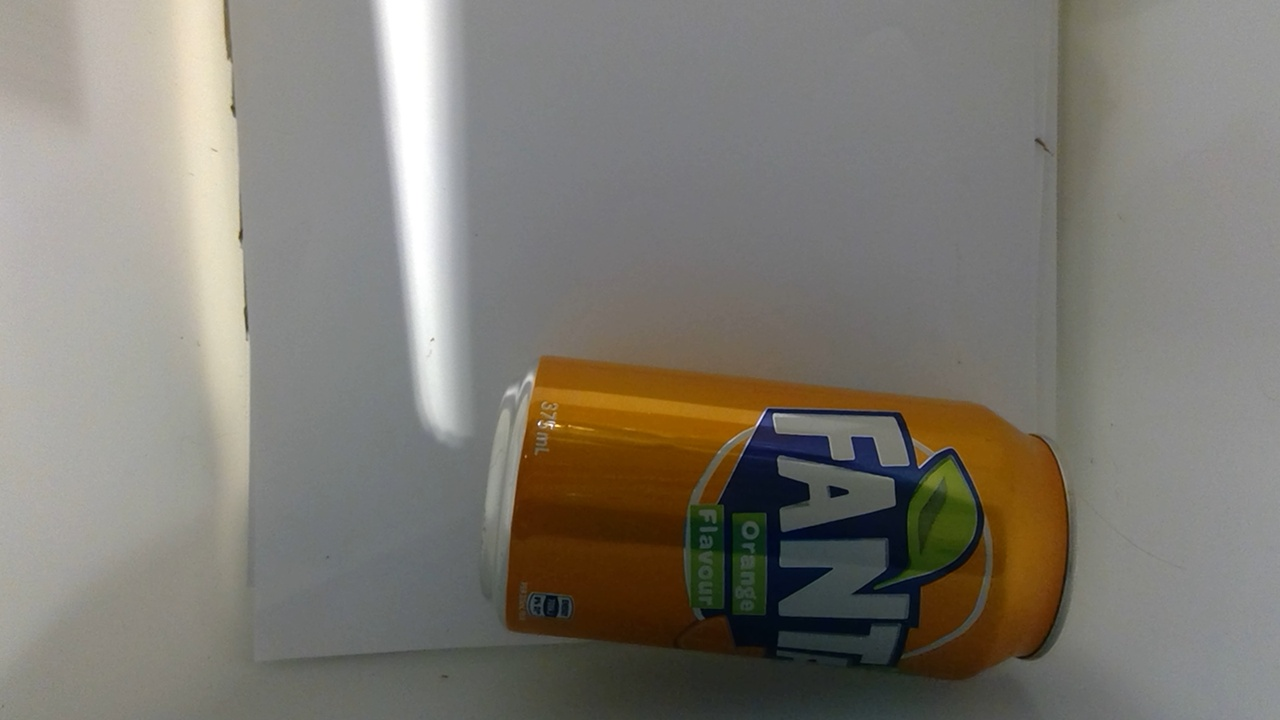bottle: (464, 345, 1075, 682)
